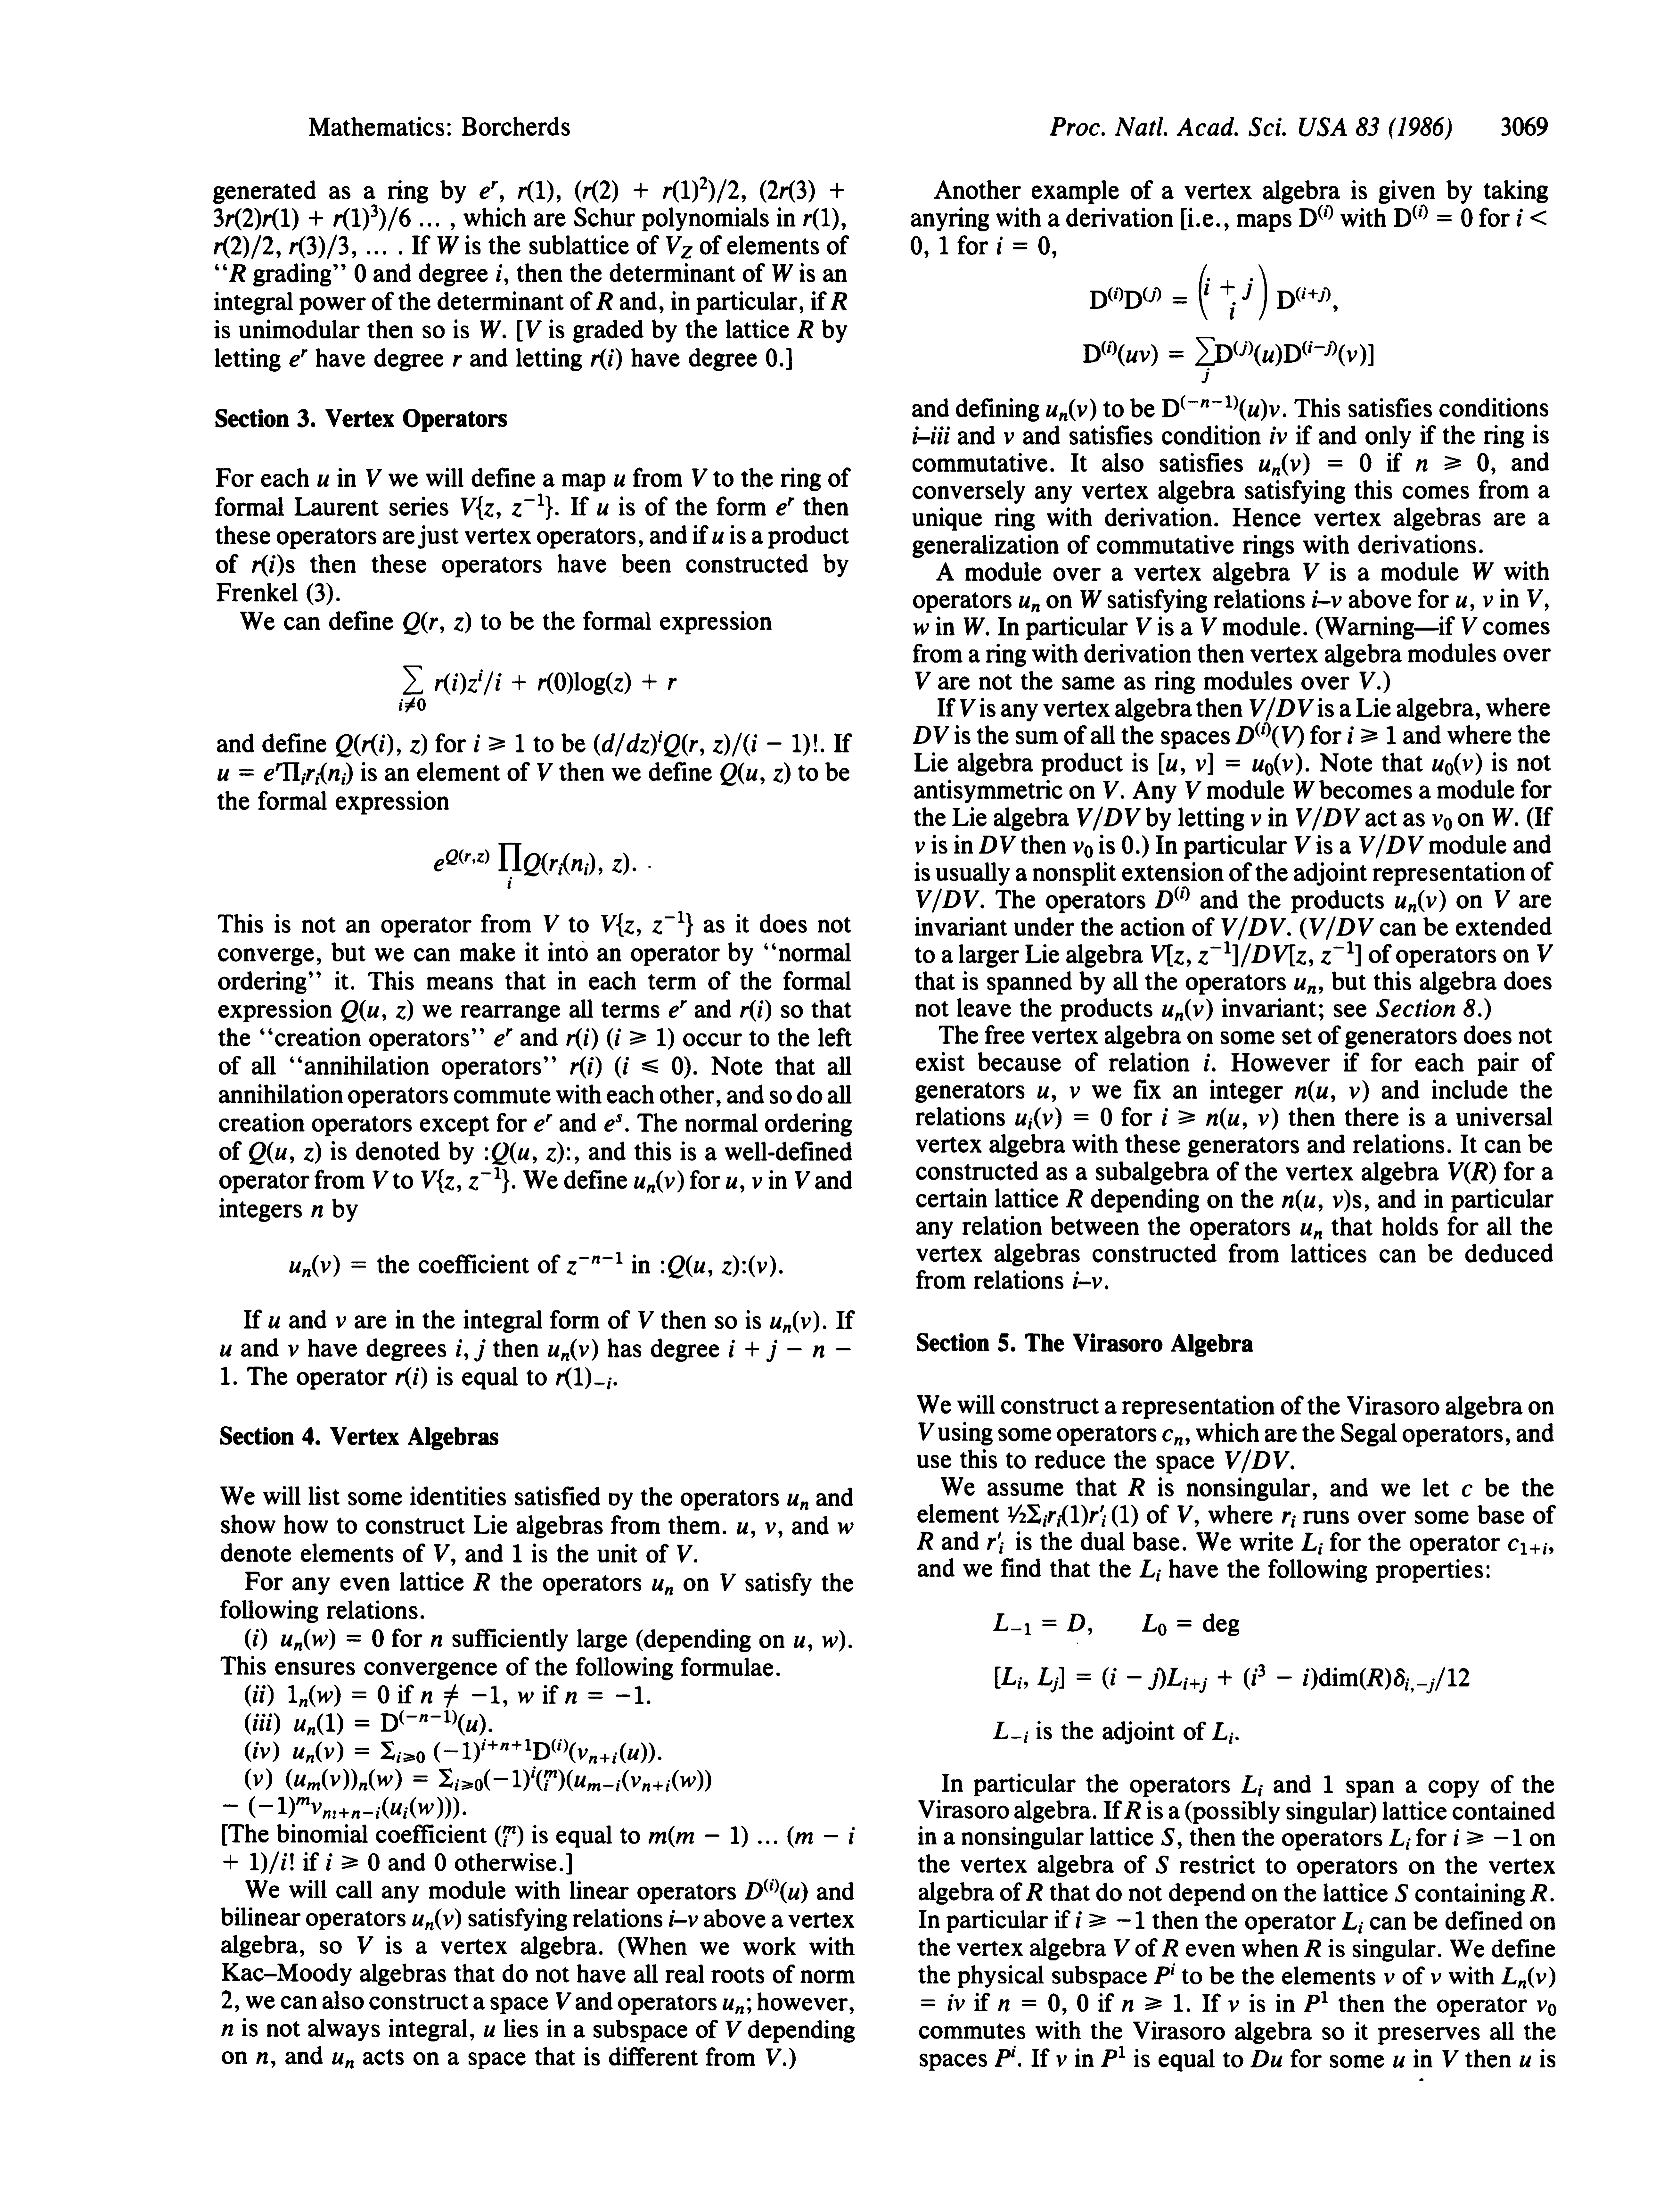maths: (995, 1664, 1470, 1694), (1089, 263, 1338, 319), (1084, 337, 1373, 383), (399, 665, 676, 713), (286, 1766, 711, 1791), (293, 1740, 655, 1763), (434, 843, 602, 889), (595, 730, 817, 757), (994, 1613, 1239, 1635), (566, 1253, 776, 1279), (1151, 940, 1361, 967), (224, 1796, 459, 1819), (214, 205, 411, 231), (295, 1710, 485, 1736), (575, 176, 745, 203), (1159, 753, 1302, 776), (217, 762, 353, 785), (1008, 1503, 1138, 1526), (1163, 395, 1279, 420), (729, 1339, 851, 1362), (1161, 1108, 1278, 1129), (602, 910, 694, 937), (281, 1628, 383, 1651), (288, 1685, 390, 1708), (566, 1029, 674, 1050), (461, 494, 552, 519), (422, 1168, 510, 1193), (335, 734, 427, 757), (649, 1826, 746, 1847), (1015, 1108, 1112, 1129), (1235, 722, 1304, 748), (1301, 916, 1373, 940), (485, 1141, 563, 1164), (1283, 1189, 1361, 1212), (289, 1254, 365, 1277), (1221, 916, 1290, 940), (249, 1141, 321, 1164), (214, 235, 281, 259), (1394, 205, 1472, 226), (720, 762, 791, 785), (1295, 806, 1361, 831), (614, 1057, 690, 1078), (224, 1851, 293, 1874), (1225, 1450, 1294, 1473), (745, 1879, 808, 1904), (1249, 697, 1313, 722), (1076, 806, 1140, 831), (404, 612, 471, 635), (341, 1000, 413, 1022), (1359, 835, 1424, 857), (916, 889, 979, 912), (289, 235, 348, 259), (787, 1826, 854, 1847), (1308, 1080, 1369, 1103), (556, 1367, 616, 1388), (761, 180, 815, 203), (1075, 1911, 1145, 1928), (997, 236, 1055, 258), (1258, 453, 1309, 476), (1394, 889, 1445, 912), (634, 1170, 683, 1193), (1046, 399, 1096, 422), (1502, 1967, 1555, 1988), (1454, 1830, 1521, 1845), (549, 1339, 598, 1360), (1163, 999, 1212, 1020), (771, 1311, 819, 1332), (413, 1909, 461, 1930), (1433, 753, 1481, 775), (252, 554, 295, 577), (1449, 1163, 1495, 1184), (420, 1683, 459, 1708), (326, 1852, 379, 1870), (1022, 1994, 1066, 2015), (1348, 725, 1396, 745), (475, 734, 524, 752), (1181, 208, 1219, 229), (517, 180, 552, 203), (1154, 886, 1189, 909), (921, 1994, 965, 2011), (803, 208, 838, 229), (471, 1687, 506, 1708), (1299, 205, 1332, 226), (994, 1722, 1027, 1743), (1509, 1538, 1553, 1554), (591, 348, 621, 370), (739, 1000, 771, 1022), (570, 1057, 602, 1078), (395, 1367, 427, 1388), (912, 725, 949, 743), (979, 836, 1016, 854), (1103, 1801, 1140, 1819), (1073, 1272, 1108, 1290), (616, 1687, 649, 1704), (665, 236, 692, 258), (1212, 1722, 1239, 1743), (1122, 1997, 1161, 2011), (669, 1909, 699, 1927), (1516, 208, 1546, 226), (1313, 589, 1341, 607), (480, 182, 503, 203), (1304, 1990, 1327, 2011), (565, 1692, 602, 1704), (494, 1826, 515, 1847), (1526, 589, 1548, 610), (1301, 1533, 1322, 1554), (1140, 1560, 1161, 1581), (1241, 1775, 1262, 1796), (1389, 1830, 1410, 1851), (1341, 1912, 1362, 1934), (995, 2045, 1016, 2066), (1101, 2047, 1124, 2066), (1154, 1964, 1175, 1983), (1530, 1884, 1553, 1902), (773, 263, 792, 282), (438, 236, 459, 254), (480, 321, 501, 339), (1472, 563, 1493, 580), (1080, 589, 1101, 607), (964, 617, 985, 635), (1359, 672, 1380, 690), (1294, 782, 1315, 799), (1204, 1053, 1216, 1083), (612, 852, 628, 875), (1294, 977, 1316, 993), (796, 319, 814, 339), (766, 348, 784, 367), (678, 1546, 697, 1563), (766, 2048, 785, 2066), (1433, 813, 1452, 831), (787, 1494, 808, 1510), (651, 1579, 672, 1595), (332, 2052, 353, 2068), (1018, 596, 1039, 612), (1301, 1223, 1322, 1239), (289, 349, 307, 367), (776, 498, 794, 515), (669, 1000, 686, 1018), (494, 1029, 512, 1046), (535, 1113, 552, 1131), (912, 427, 930, 445), (1200, 617, 1218, 635), (1294, 836, 1311, 854), (1038, 1085, 1055, 1103), (1128, 1478, 1145, 1496), (916, 1531, 934, 1549), (1025, 1882, 1043, 1900), (1161, 1939, 1179, 1957), (692, 468, 708, 487), (725, 1177, 745, 1193), (1073, 842, 1092, 857), (1163, 1429, 1182, 1445), (1537, 2001, 1556, 2017), (722, 1999, 743, 2013), (229, 265, 245, 282), (596, 293, 612, 311), (831, 293, 847, 311), (526, 321, 542, 339), (365, 469, 381, 487), (536, 762, 552, 780), (544, 914, 559, 932), (605, 1113, 621, 1131), (372, 1171, 388, 1189), (794, 1171, 810, 1189), (434, 1544, 450, 1561), (473, 1574, 491, 1590), (720, 1574, 736, 1591), (794, 1635, 812, 1651), (556, 1992, 572, 2010), (725, 2020, 741, 2038), (1271, 427, 1286, 445), (1304, 563, 1320, 580), (1136, 617, 1152, 635), (1461, 617, 1477, 635), (960, 699, 976, 716), (1103, 782, 1119, 799), (1186, 782, 1202, 799), (1495, 889, 1511, 907), (1537, 944, 1553, 962), (1066, 1189, 1082, 1207), (918, 1422, 934, 1440), (1177, 1505, 1193, 1523), (1114, 1939, 1129, 1957), (1304, 1939, 1320, 1957), (1442, 2050, 1458, 2068), (736, 1523, 755, 1537), (455, 1339, 468, 1360), (356, 1937, 372, 1953), (639, 1311, 653, 1329), (1444, 455, 1461, 469), (1456, 596, 1474, 610), (916, 672, 930, 690), (1394, 1884, 1408, 1902), (475, 1339, 485, 1362), (1281, 1512, 1295, 1528), (434, 1852, 446, 1870), (1359, 453, 1371, 471), (1161, 1828, 1174, 1845), (1156, 1856, 1168, 1874), (1076, 1994, 1089, 2011), (355, 263, 365, 282), (1122, 835, 1133, 854), (829, 183, 844, 198), (822, 1635, 838, 1648), (517, 1692, 533, 1704), (912, 623, 928, 635), (911, 236, 921, 254), (1477, 453, 1488, 471), (838, 1523, 854, 1533), (221, 1367, 229, 1385), (1324, 1775, 1332, 1793), (1174, 1994, 1182, 2011), (596, 503, 609, 515), (311, 1205, 323, 1217), (268, 1316, 281, 1329), (221, 2024, 233, 2036), (256, 2052, 268, 2064), (1415, 459, 1428, 471), (1392, 2055, 1405, 2068), (318, 475, 328, 487), (614, 475, 625, 487), (713, 531, 724, 543), (752, 1177, 762, 1189), (335, 1316, 346, 1329), (221, 1344, 231, 1357), (288, 1344, 298, 1357), (484, 2025, 494, 2038), (1004, 432, 1015, 445), (1482, 595, 1493, 607), (1251, 813, 1262, 826), (914, 842, 925, 854), (1069, 1085, 1080, 1097), (1295, 1087, 1306, 1099), (1461, 1484, 1472, 1496), (1168, 1807, 1179, 1819), (1384, 1972, 1394, 1985), (999, 1999, 1009, 2011), (1519, 2055, 1530, 2068), (514, 1544, 521, 1561), (431, 1635, 441, 1646), (1431, 1972, 1442, 1983), (1228, 2001, 1239, 2011), (1055, 2055, 1066, 2066), (454, 355, 462, 367), (496, 265, 501, 282), (766, 1523, 775, 1533), (1327, 460, 1343, 466)
